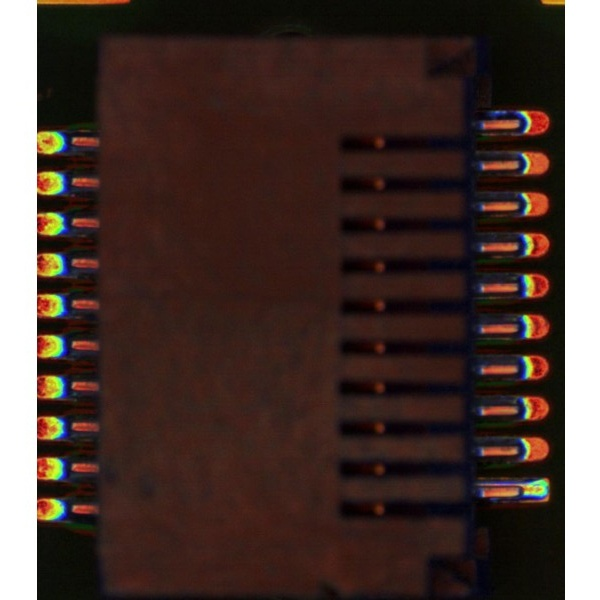Bad_qiaojiao: (478, 480, 517, 487)
